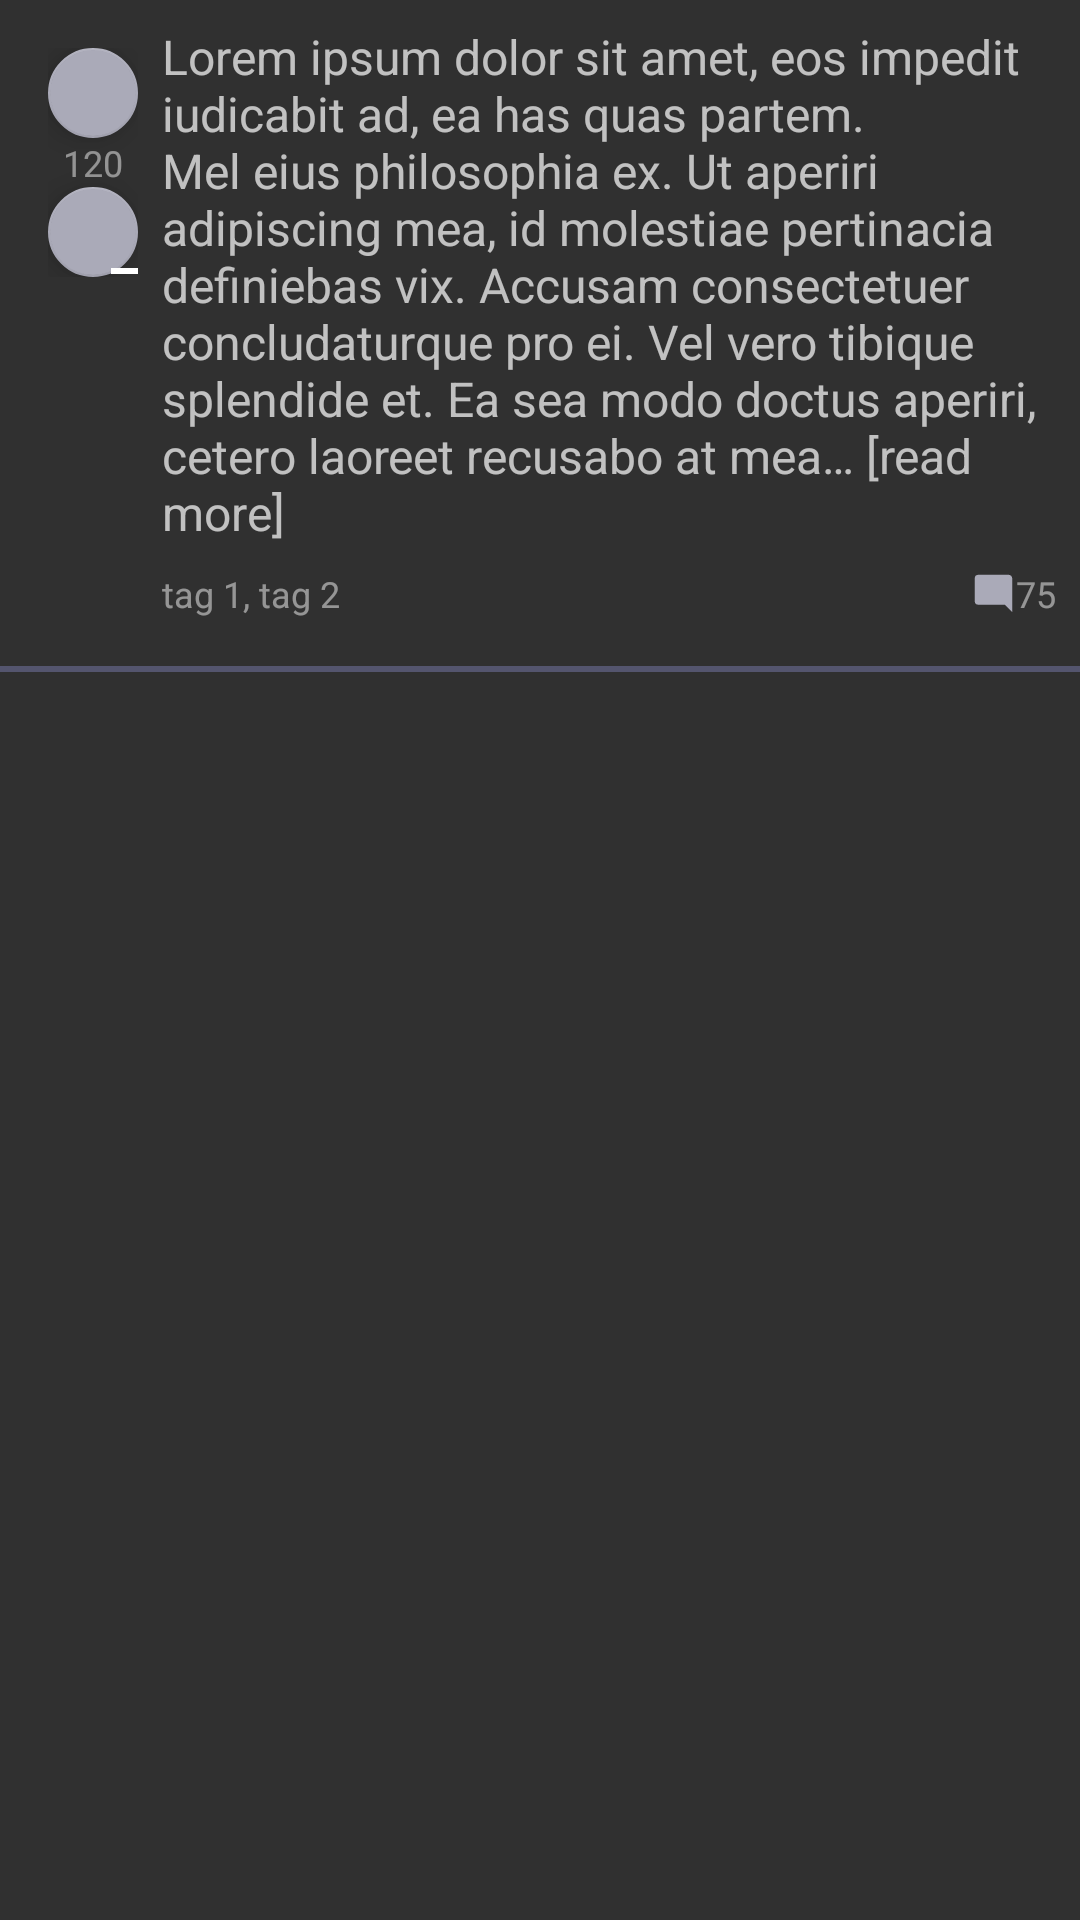

Icons on this 1080px×1920px Android screen, each with the point to tap as (x,y):
Comment: (993,593)
